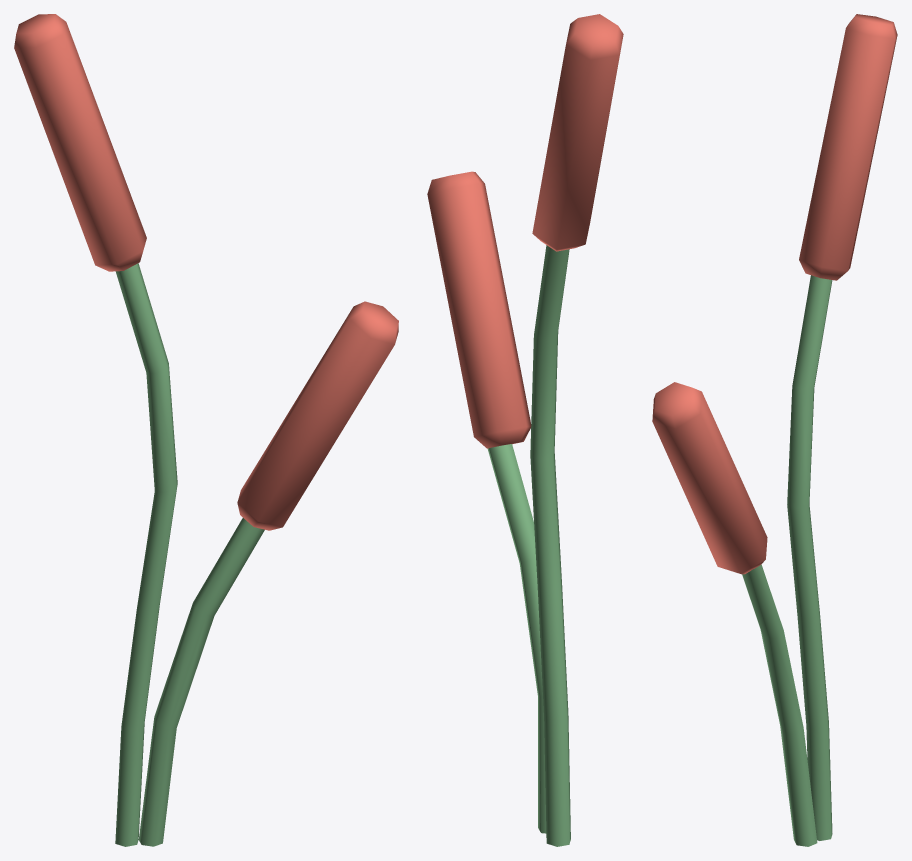
The model's file is cattail_4.fbx.
The picture shows the model from 3 angles, left to right: view 1: azimuth 30°, elevation 25°; view 2: azimuth 150°, elevation 25°; view 3: azimuth 270°, elevation 25°; orthographic projection. The views are drawn at different scales.
Parts seen in each view (by area): view 1: cattail.003; view 2: cattail.003; view 3: cattail.003.
Part boxes in pixels (x1,y1,x2,y2): cattail.003: [14, 14, 398, 846]; cattail.003: [427, 14, 623, 846]; cattail.003: [652, 14, 897, 846].
Bounding box in the file's own units: 49.58 × 138 × 38.65.
